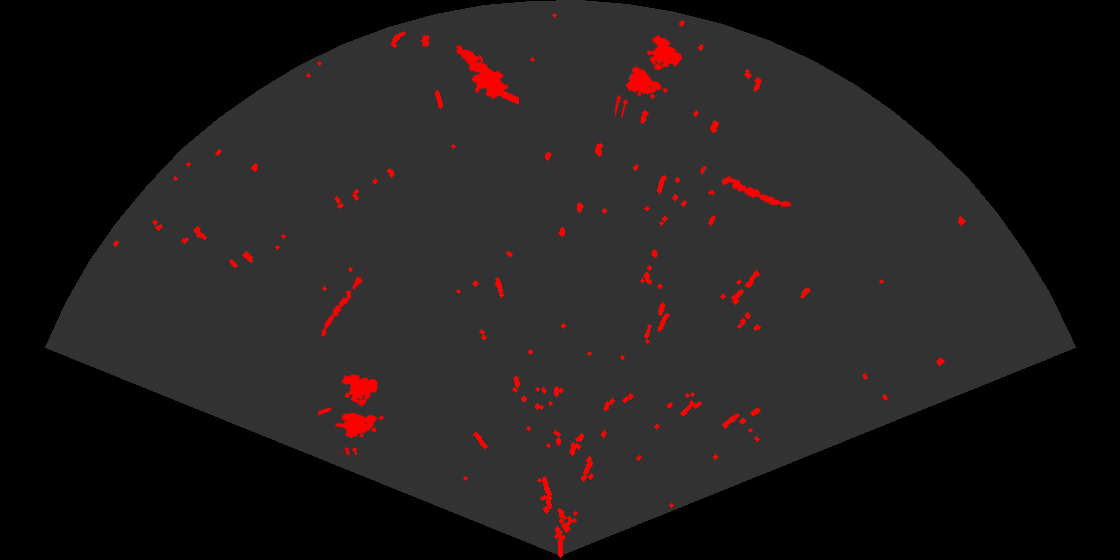cage: (615, 33, 684, 117), (318, 373, 385, 455)
chain: (697, 164, 793, 209), (319, 267, 367, 338)
frogman: (454, 44, 519, 106)
